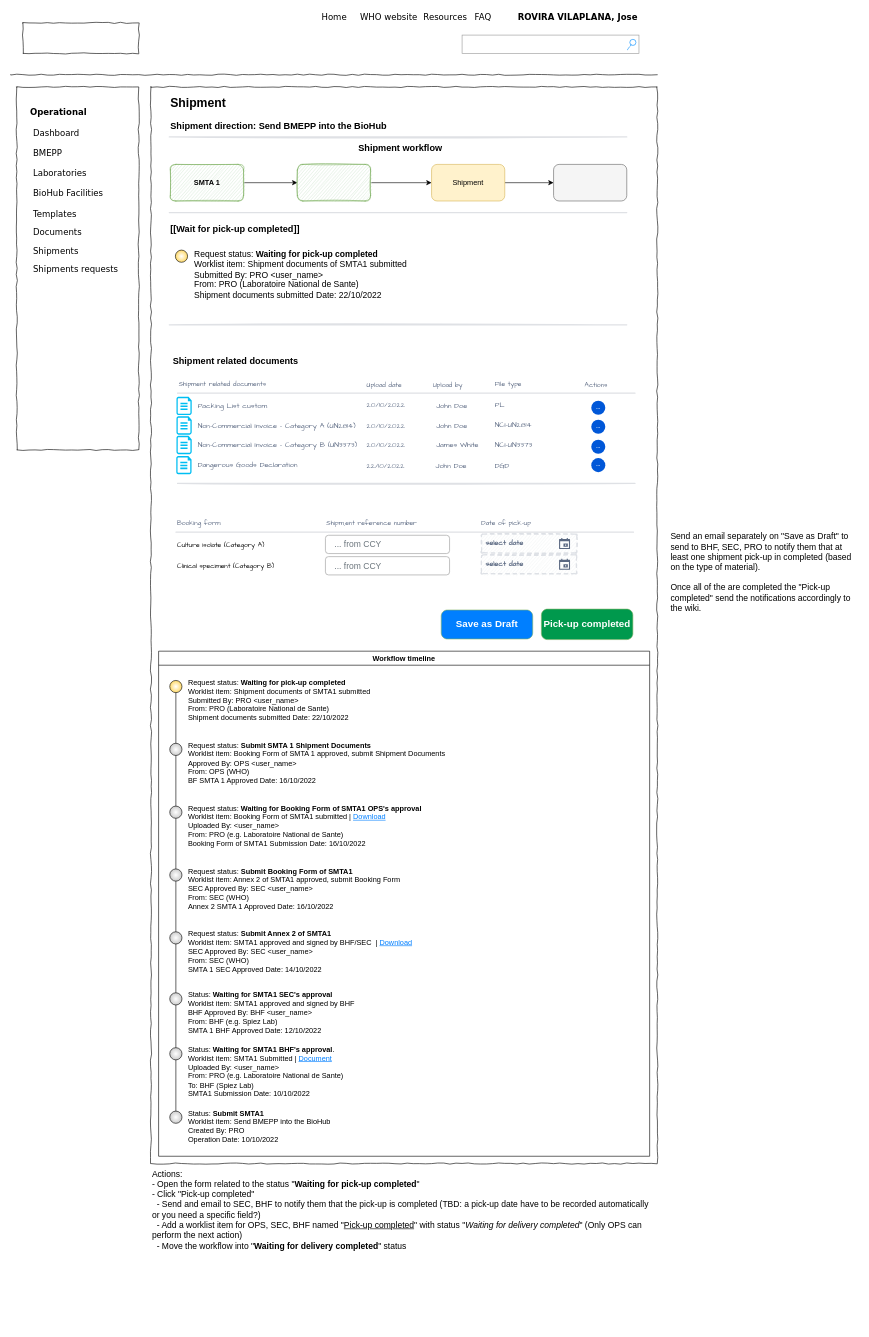
Image size: 869x1337. Some labels were removed from this diagram. The centre of each missing label's shape, as x and y in pixels:
"LOGO" goes at [80,37].
"Post-Shipment" goes at [590,182].
"Pre-Shipment" goes at [334,182].
"Search" goes at [550,43].
